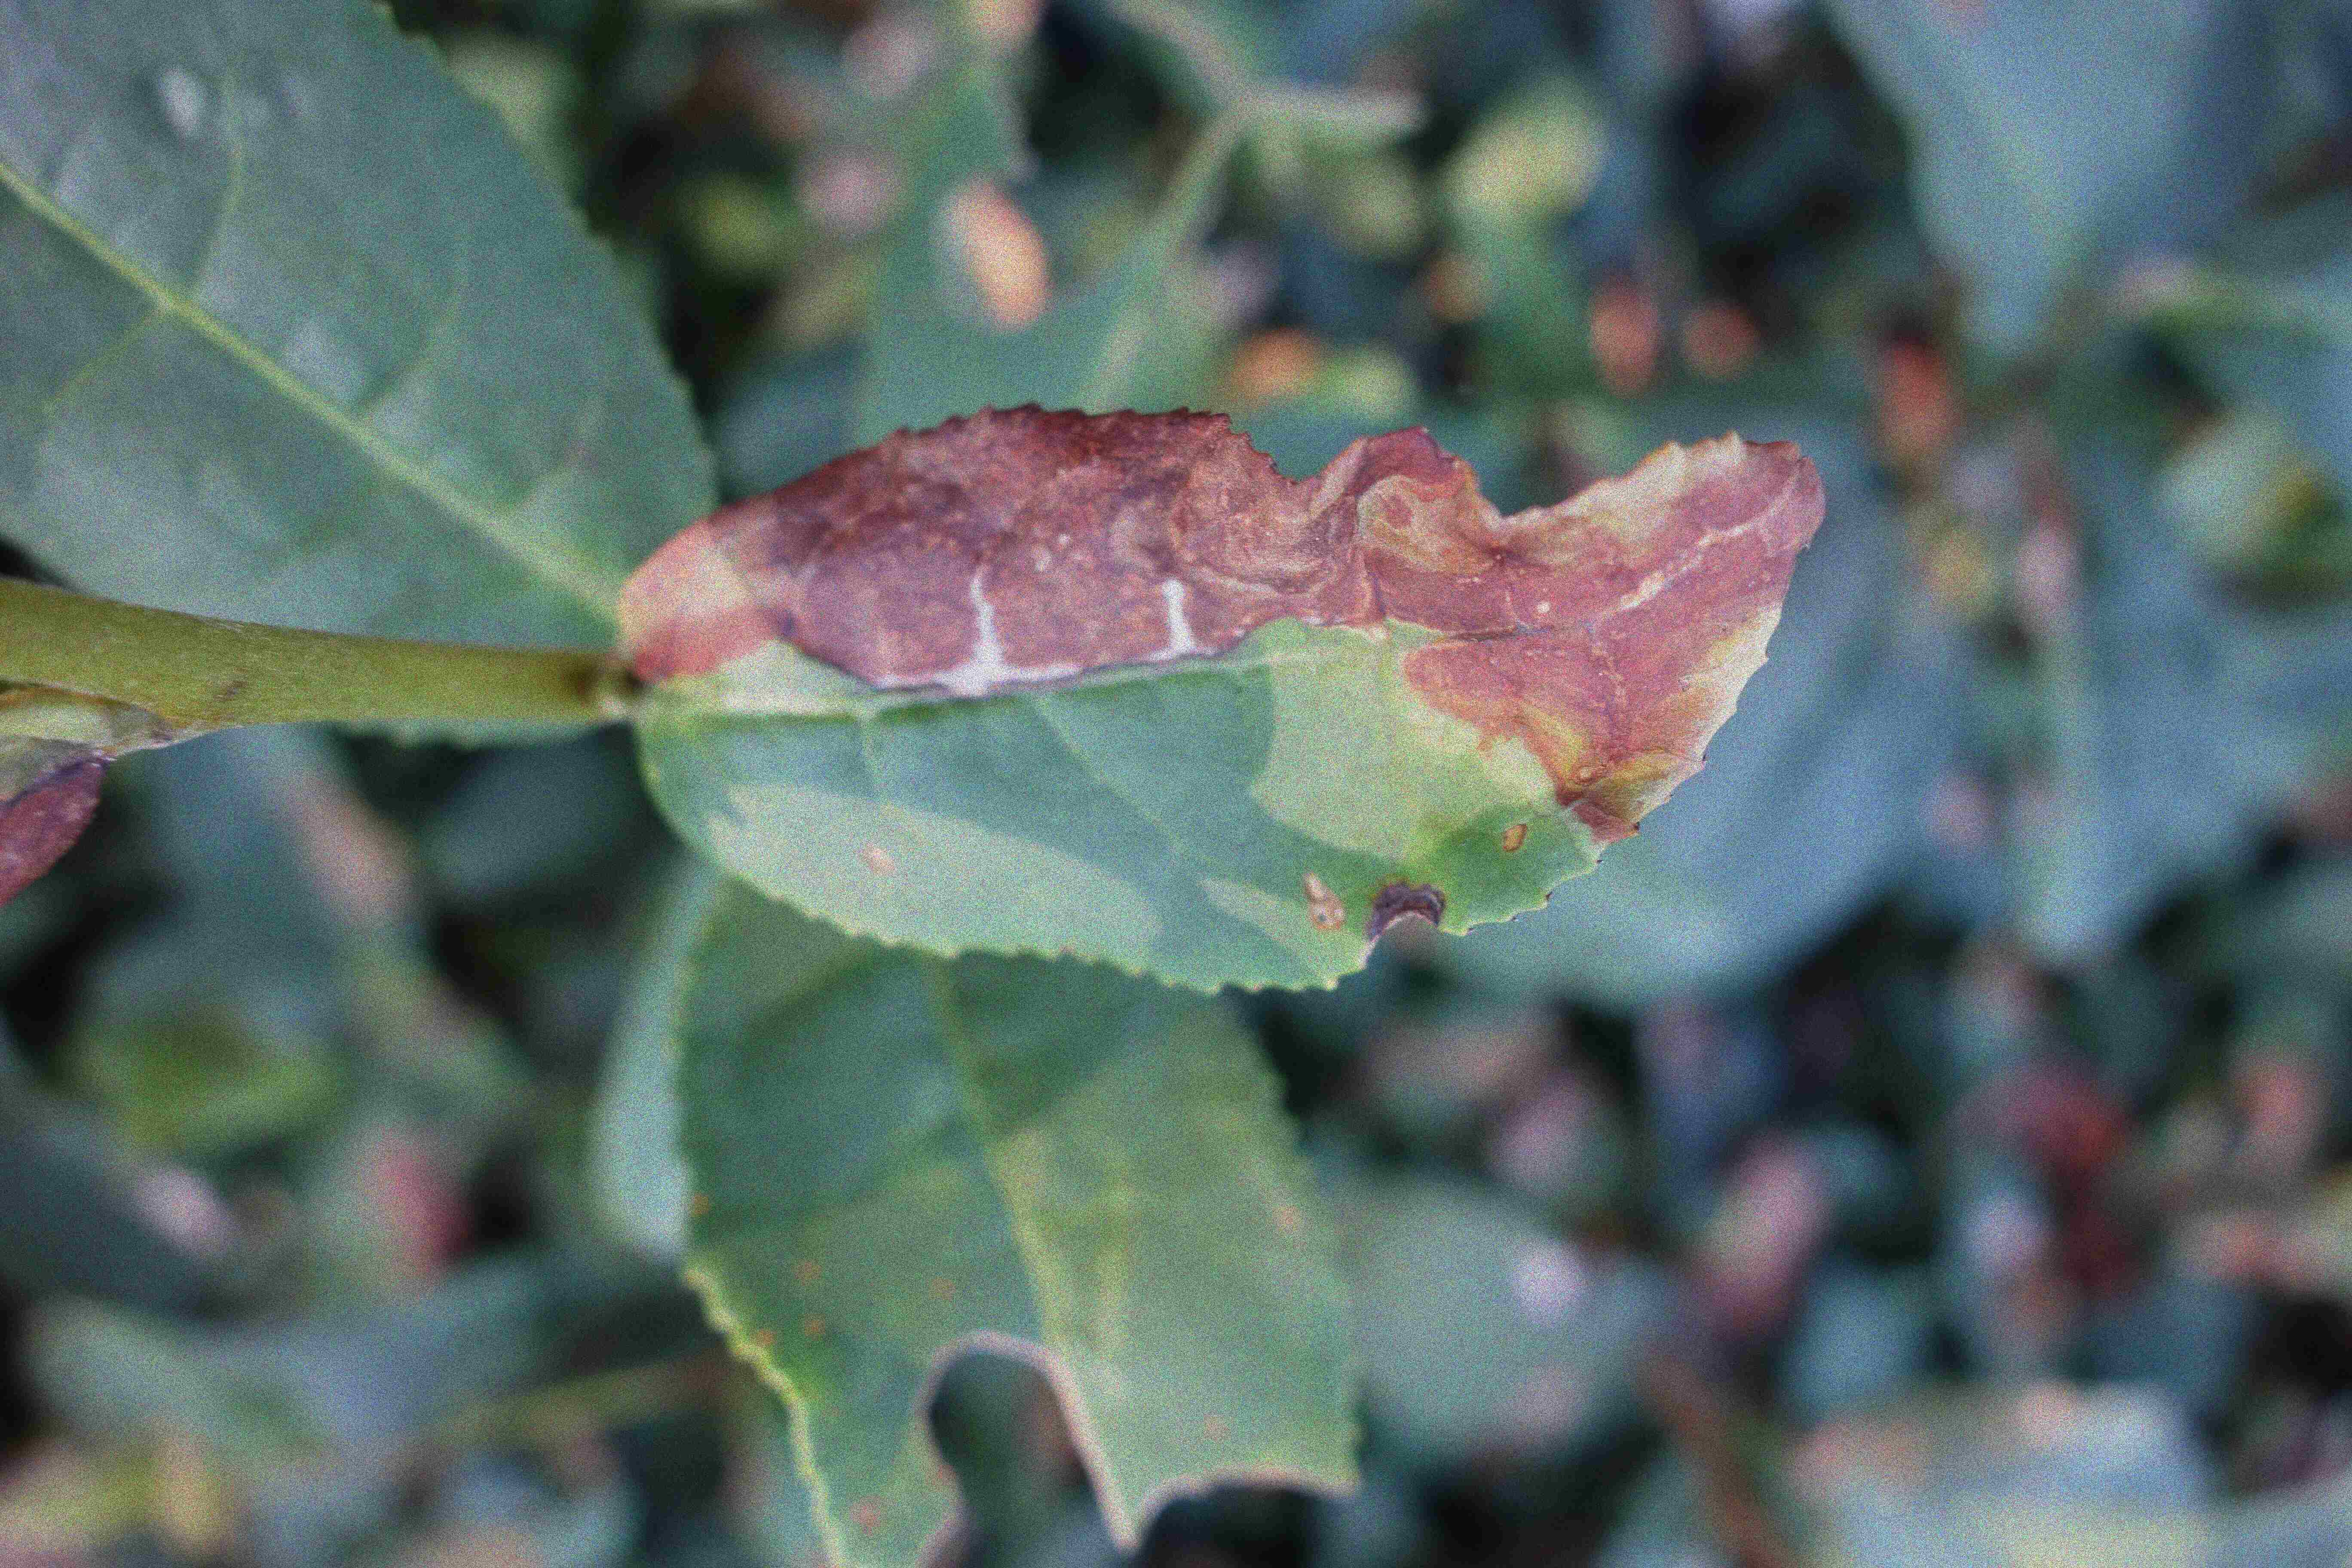chihuo_high: (651, 922, 1361, 1561)
tanju_high: (604, 406, 1830, 994)
